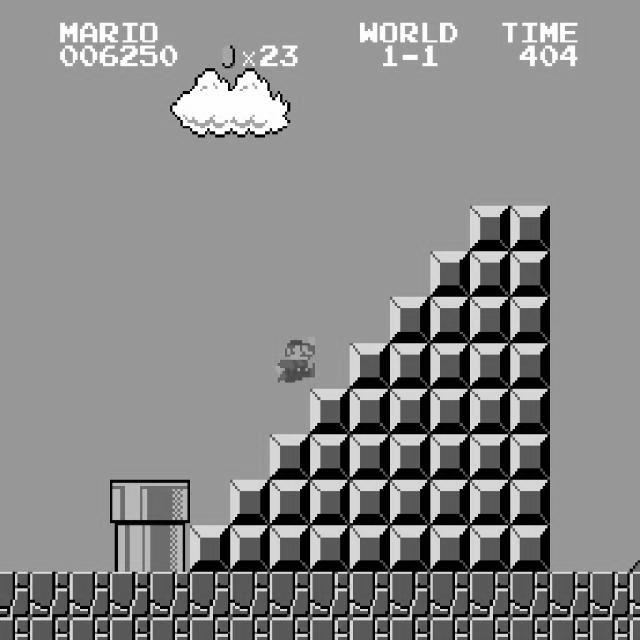11- little_mario: (272, 335, 316, 383)
14- pipe: (110, 526, 150, 572), (150, 526, 190, 572)
15- pipe_head: (110, 480, 150, 526), (150, 480, 190, 526)
17- undestructible_block: (30, 572, 70, 618), (70, 572, 110, 618), (110, 572, 150, 618), (150, 572, 190, 618), (190, 572, 230, 618), (230, 572, 270, 618), (270, 572, 310, 618), (310, 572, 350, 618), (350, 572, 390, 618), (390, 572, 430, 618), (430, 572, 470, 618), (470, 572, 510, 618), (510, 572, 550, 618), (550, 572, 590, 618), (590, 572, 630, 618), (0, 572, 30, 618), (30, 617, 70, 640), (70, 617, 110, 640), (110, 617, 150, 640), (150, 617, 190, 640), (190, 617, 230, 640), (230, 617, 270, 640), (270, 617, 310, 640), (310, 617, 350, 640), (350, 617, 390, 640), (390, 617, 430, 640), (430, 617, 470, 640), (470, 617, 510, 640), (510, 617, 550, 640), (550, 617, 590, 640), (590, 617, 630, 640), (0, 617, 30, 640), (629, 571, 640, 617), (629, 617, 640, 639)
9- hard_block: (190, 526, 230, 572), (230, 480, 270, 526), (230, 526, 270, 572), (270, 434, 310, 480), (270, 480, 310, 526), (270, 526, 310, 572), (310, 388, 350, 434), (310, 434, 350, 480), (310, 480, 350, 526), (310, 526, 350, 572), (350, 388, 390, 434), (350, 434, 390, 480), (350, 480, 390, 526), (350, 526, 390, 572), (390, 297, 430, 343), (390, 388, 430, 434), (390, 434, 430, 480), (390, 480, 430, 526), (390, 526, 430, 572), (430, 252, 470, 298), (430, 297, 470, 343), (430, 388, 470, 434), (430, 434, 470, 480), (430, 480, 470, 526), (430, 526, 470, 572), (470, 252, 510, 298), (470, 297, 510, 343), (470, 388, 510, 434), (470, 434, 510, 480), (470, 480, 510, 526), (470, 526, 510, 572), (510, 252, 550, 298), (510, 297, 550, 343), (510, 388, 550, 434), (510, 434, 550, 480), (510, 480, 550, 526), (510, 526, 550, 572), (350, 343, 390, 388), (390, 343, 430, 388), (430, 343, 470, 388), (470, 206, 510, 251), (470, 343, 510, 388), (510, 206, 550, 251), (510, 343, 550, 388)
